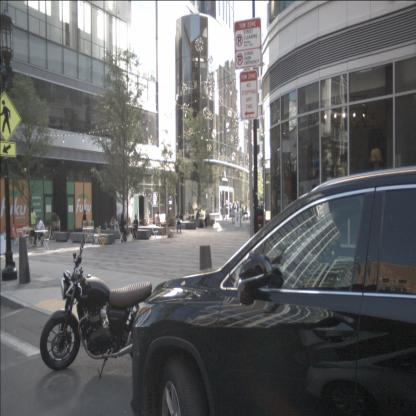barrier: (4, 224, 26, 238), (154, 214, 166, 224)
cone: (146, 214, 149, 226)
